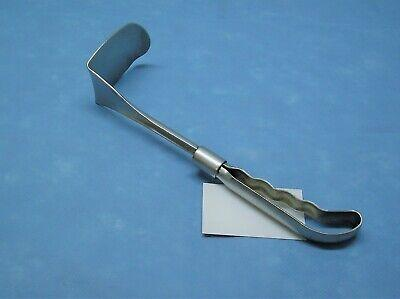Kelly Retractor: (87, 19, 363, 245)
